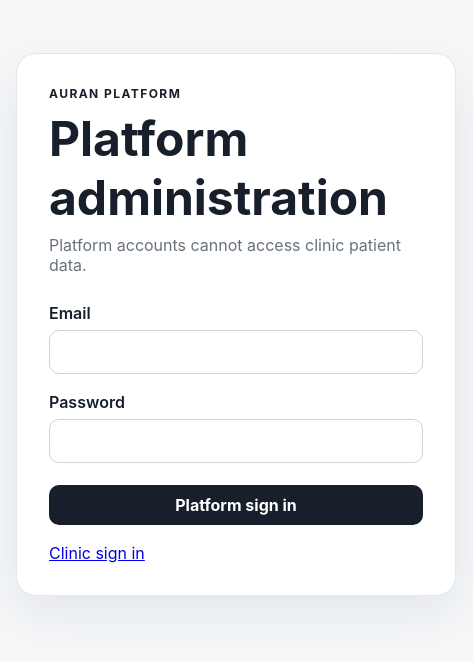
Test: Platform actor UI boundary › does not display clinic records when login fails
Type "admin@example.com" into the field labelled "Email".
click(236, 352); type("admin@example.com")  # box [49,330,423,374]
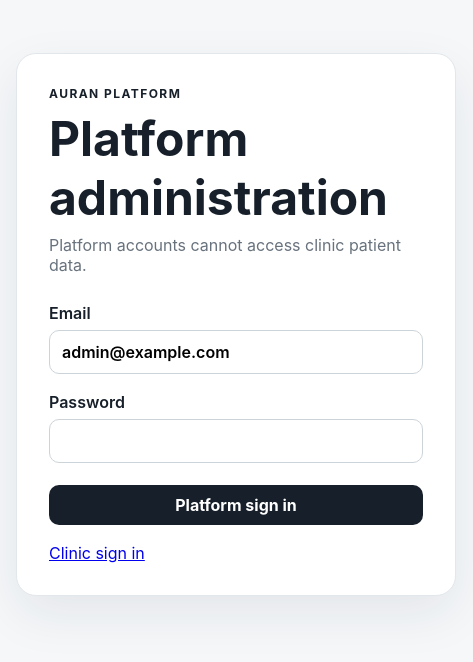
Type "wrong" into the password field labelled "Password".
click(236, 440); type("wrong")  # box [49,418,423,462]
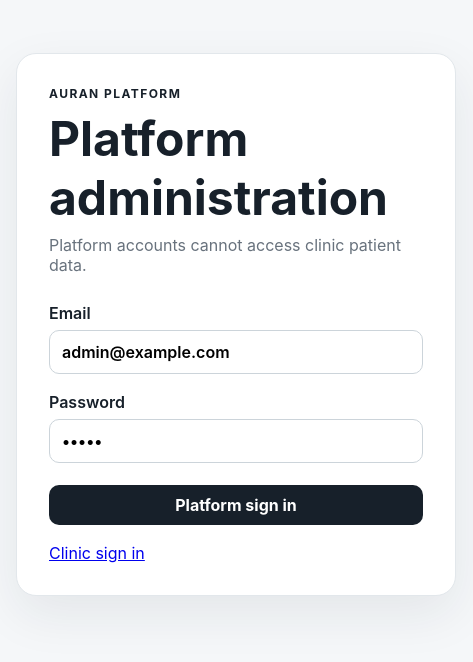
Click the button "Platform sign in".
click(236, 504)  # box [49,484,423,524]
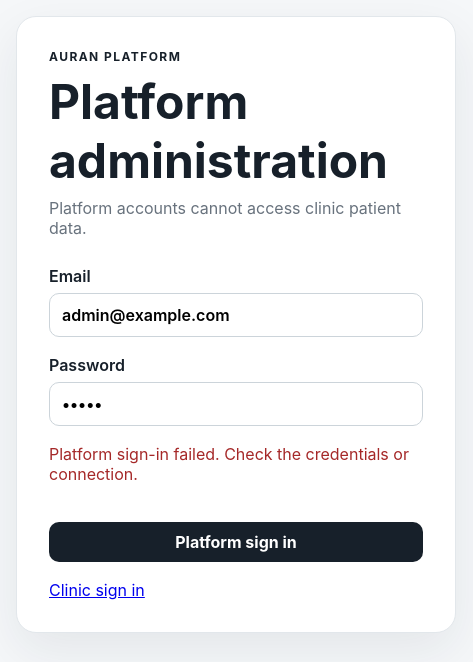
Expected: the message "Platform sign-in failed. Check the credentials or connection." is shown, [49,444,423,484]
